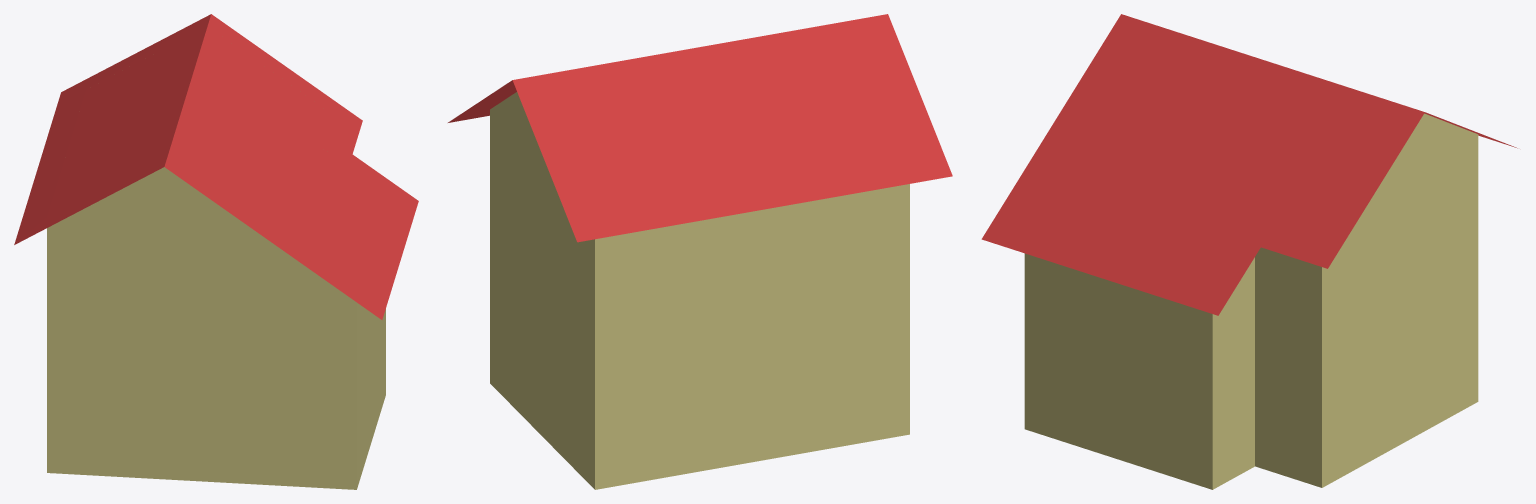
The picture shows the model from 3 angles, left to right: view 1: azimuth 30°, elevation 25°; view 2: azimuth 150°, elevation 25°; view 3: azimuth 270°, elevation 25°; orthographic projection. The views are drawn at different scales.
Size of the model in its own units: 11.92 by 13.14 by 9.14.
